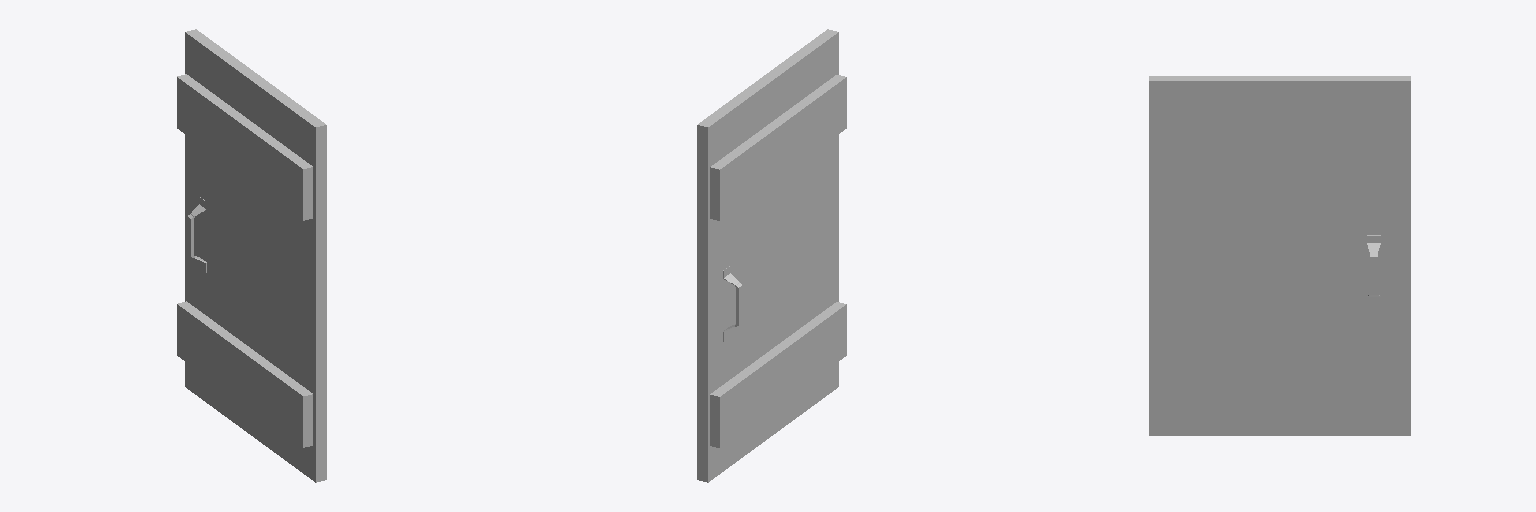
Rendered from door_open.obj.
The picture shows the model from 3 angles: view 1: azimuth 30°, elevation 25°; view 2: azimuth 150°, elevation 25°; view 3: azimuth 270°, elevation 25°; orthographic projection.
Parts seen in each view (by area): view 1: Cylinder; view 2: Cylinder; view 3: Cylinder.
Part boxes in pixels (x1,y1,x2,y2): Cylinder: (177,29,326,482); Cylinder: (697,29,846,482); Cylinder: (1149,76,1410,435).
Bounding box in the file's own units: 0.3511 × 3 × 2.